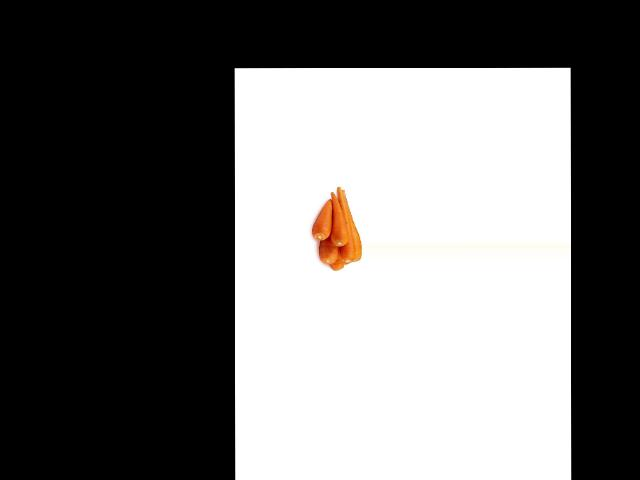carrot: (310, 196, 332, 240)
